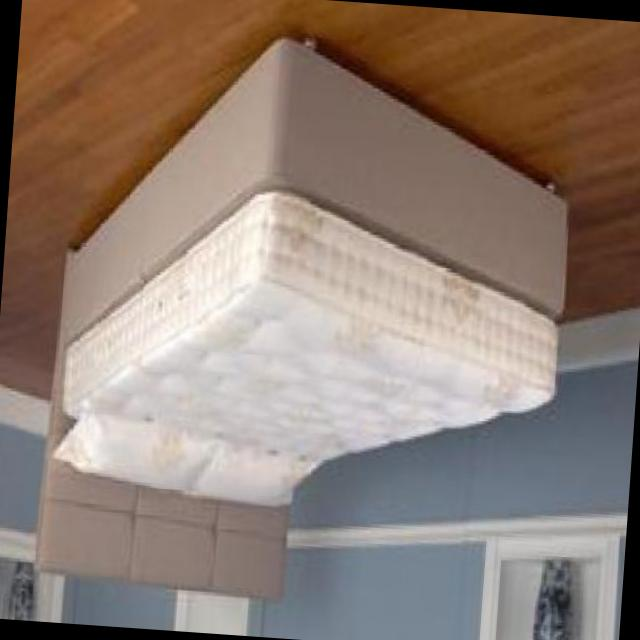Bed: (19, 3, 603, 631)
